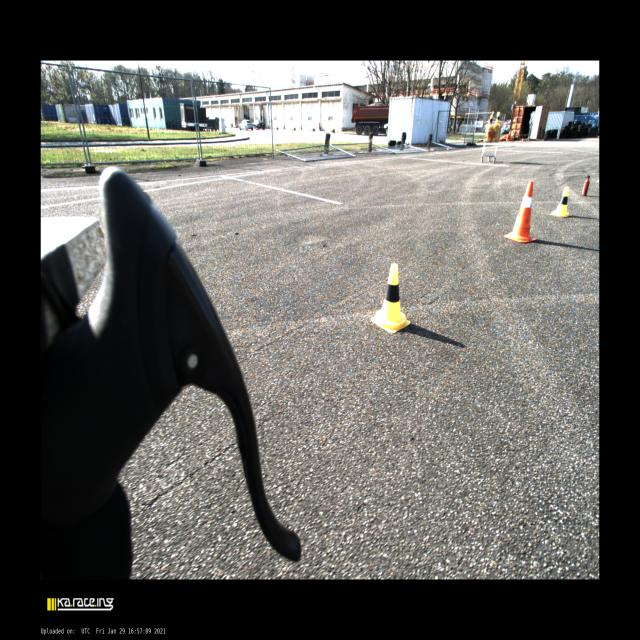large_orange_cone: (504, 180, 536, 242), (508, 129, 511, 141)
orange_cone: (506, 134, 509, 141)
yellow_cone: (370, 264, 410, 334), (550, 186, 570, 216), (487, 114, 493, 127), (496, 112, 500, 125)
